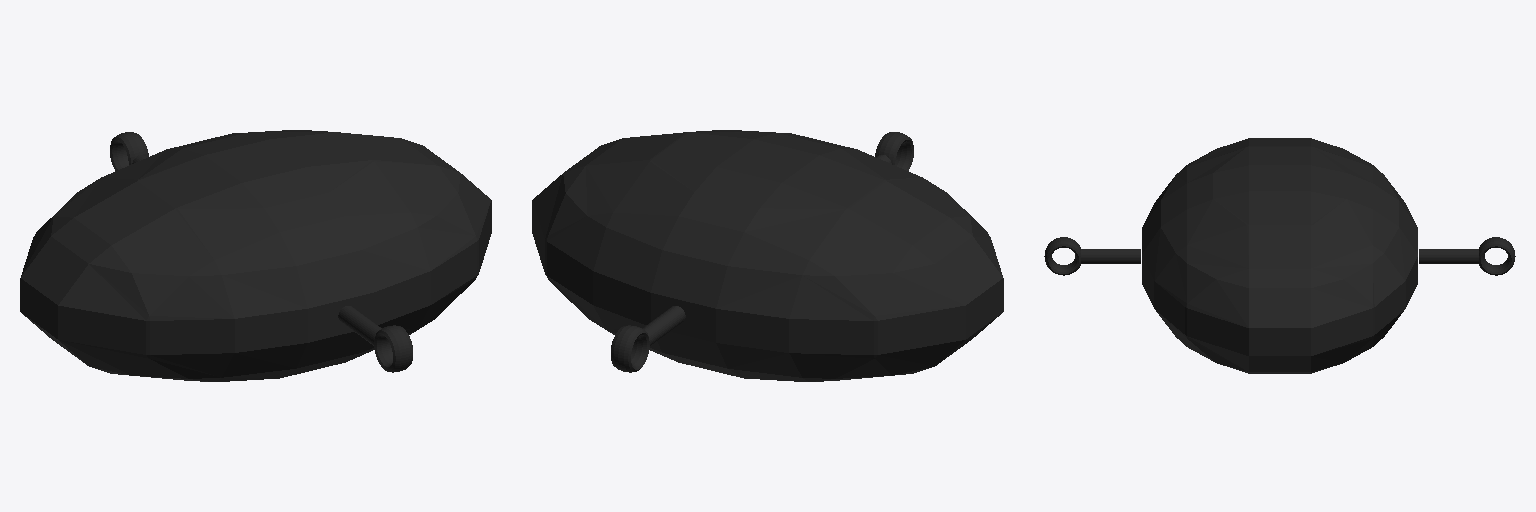
The robot description file, URDF, robot "haero":
<?xml version="1.0" ?>

<robot name="haero">

  <properties arm="0.175" kf="6.11e-8" km="1.5e-9" thrust2weight="2" max_speed_kmh="50" gnd_eff_coeff="0" prop_radius="0" drag_coeff_xy="0" drag_coeff_z="0" dw_coeff_1="0" dw_coeff_2="0" dw_coeff_3="1"/>

  <link name="base_link"> 

    <inertial>
      <origin rpy="0 0 0" xyz="0 0 0"/>
      <mass value="0.5"/>
      <inertia ixx="0.0023" ixy="0.0" ixz="0.0" iyy="0.0023" iyz="0.0" izz="0.004"/>
    </inertial>

    <visual>
      <origin rpy="1.5707 0 0" xyz="0 0 -0.02"/>
      <geometry>
        <mesh filename="./haero.obj" scale=".0875 .0875 .0875"/>
      </geometry> 
      <material name="red">
        <color rgba=".2 .2 .2 1"/>
      </material> 
    </visual>

    <collision>
      <origin rpy="0 0 0" xyz="0 0 -0.02"/>
      <geometry>
        <sphere radius=".24"/>
      </geometry>
    </collision>  

  </link>

  <link name="prop0_link">
    <inertial>
      <origin rpy="0 0 0" xyz="0 -0.25 0"/>
      <mass value="0"/>
      <inertia ixx="0" ixy="0" ixz="0" iyy="0" iyz="0" izz="0"/>
    </inertial>

    <collision>
      <origin rpy="0 0 0" xyz="0 -0.25 -0.02"/>
      <geometry>
        <sphere radius=".02"/>
      </geometry>
    </collision>  
  </link>
  <joint name="prop0_joint" type="fixed">
    <parent link="base_link"/>
    <child link="prop0_link"/>
  </joint>

  <link name="prop1_link">
    <inertial>
      <origin rpy="0 0 0" xyz="0 0.25 0"/>
      <mass value="0"/>
      <inertia ixx="0" ixy="0" ixz="0" iyy="0" iyz="0" izz="0"/>
    </inertial>

    <collision>
      <origin rpy="0 0 0" xyz="0 0.25 -0.02"/>
      <geometry>
        <sphere radius=".02"/>
      </geometry>
    </collision>  
  </link>
  <joint name="prop1_joint" type="fixed">
    <parent link="base_link"/>
    <child link="prop1_link"/>
  </joint>


  <link name="center_of_mass_link">
    <inertial>
      <origin rpy="0 0 0" xyz="0 0 0"/>
      <mass value="0"/>
      <inertia ixx="0" ixy="0" ixz="0" iyy="0" iyz="0" izz="0"/>
    </inertial>
  </link>
  <joint name="center_of_mass_joint" type="fixed">
    <parent link="base_link"/>
    <child link="center_of_mass_link"/>
  </joint>

</robot>

--- What the picture shows (computed from the rendered views, not written in the file) ---
Views: 3 orthographic renders of the robot side by side, from view 1: azimuth 30°, elevation 25°; view 2: azimuth 150°, elevation 25°; view 3: azimuth 270°, elevation 25°.
Model haero with 4 links and 3 joints (3 fixed), rooted at base_link, posed all joints at 0.
Visible links, largest first — view 1: base_link; view 2: base_link; view 3: base_link.
Link boxes in pixels (x1,y1,x2,y2): base_link: (20,130,491,381); base_link: (532,130,1003,381); base_link: (1044,138,1515,373).
Size in the robot's own frame: 0.4641 by 0.5341 by 0.1943 metres.
Meshes: 1 distinct files referenced, 1 mesh visuals loaded (1 OBJ).